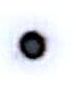cancer: (1, 16, 64, 79)
